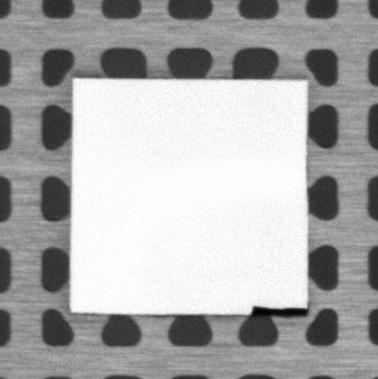DIE_BROKEN: (249, 304, 309, 317)
